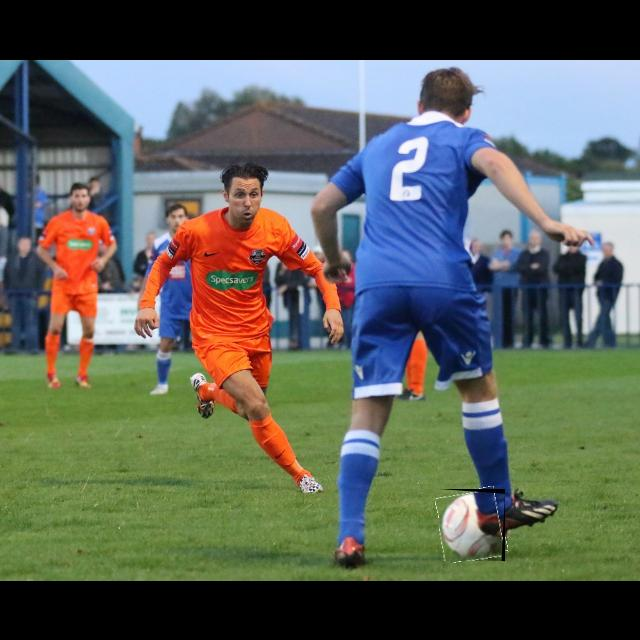Football: (439, 489, 505, 561)
